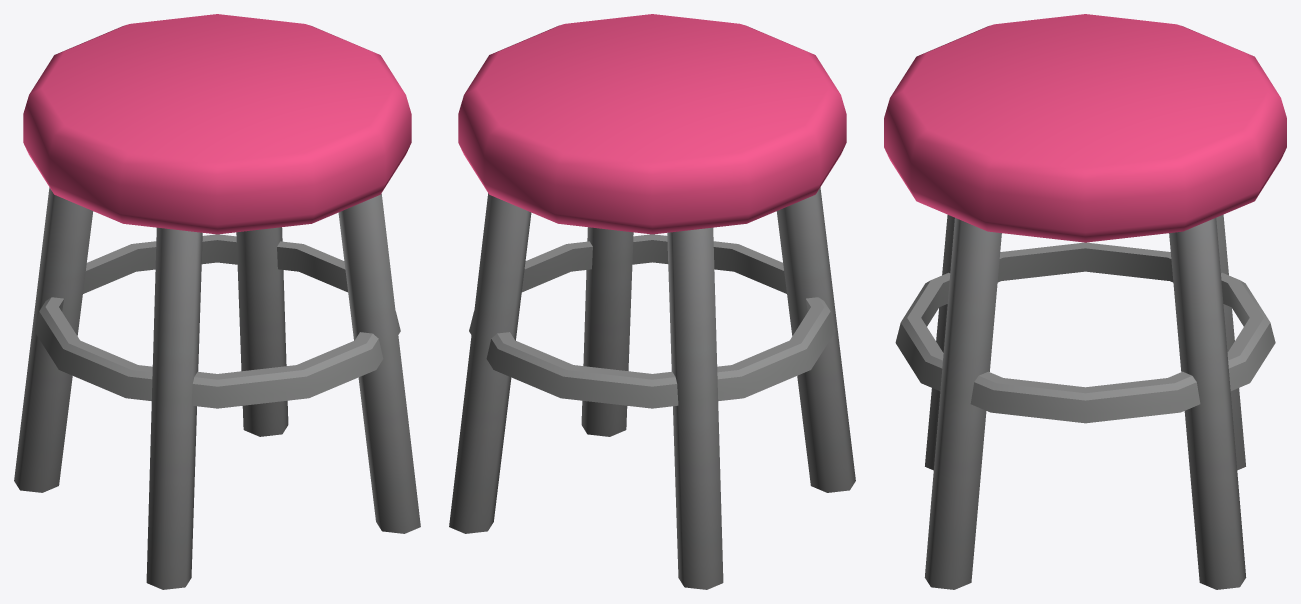
File: Chair_2_D.fbx
3 renders of one model, left to right at view 1: azimuth 30°, elevation 25°; view 2: azimuth 150°, elevation 25°; view 3: azimuth 270°, elevation 25°, orthographic. The views are drawn at different scales.
Parts seen in each view (by area): view 1: Chair_2_D; view 2: Chair_2_D; view 3: Chair_2_D.
Boxes of the visible parts, x1,y1,x2,y2 form: Chair_2_D: (14, 14, 420, 589); Chair_2_D: (449, 14, 855, 589); Chair_2_D: (884, 14, 1286, 589).
Bounding box in the file's own units: 50.02 × 59.1 × 50.04.
